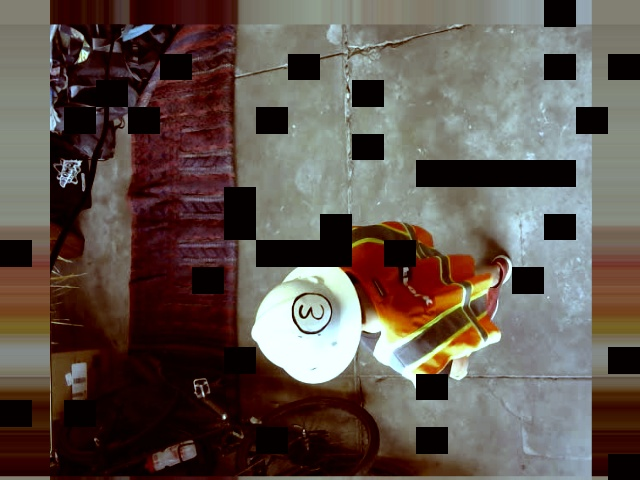three: (290, 291, 330, 334)
